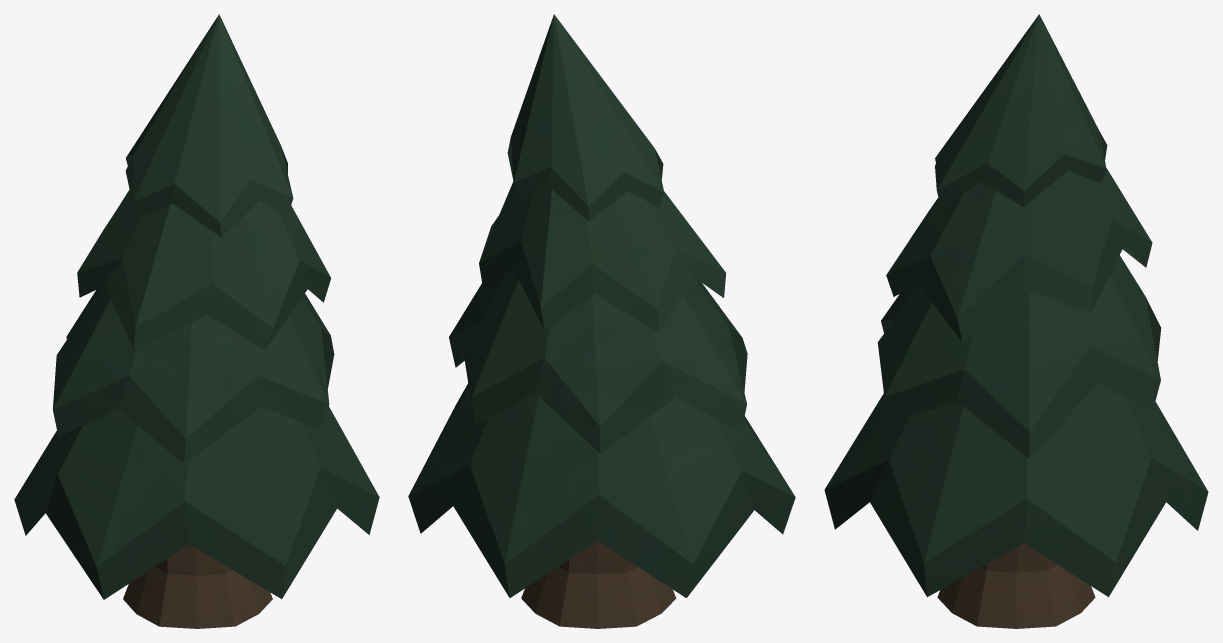
File: Tree_pine_C.obj
3 views of the same model, side by side, from view 1: azimuth 30°, elevation 25°; view 2: azimuth 150°, elevation 25°; view 3: azimuth 270°, elevation 25° (orthographic). The views are drawn at different scales.
Parts seen in each view (by area): view 1: Tree_pine_C; view 2: Tree_pine_C; view 3: Tree_pine_C.
Boxes of the visible parts, bbox=[...] form: Tree_pine_C: bbox=[14, 14, 379, 628]; Tree_pine_C: bbox=[408, 14, 795, 628]; Tree_pine_C: bbox=[824, 14, 1208, 628].
Size of the model in its own units: 4.58 by 8.31 by 4.82.
